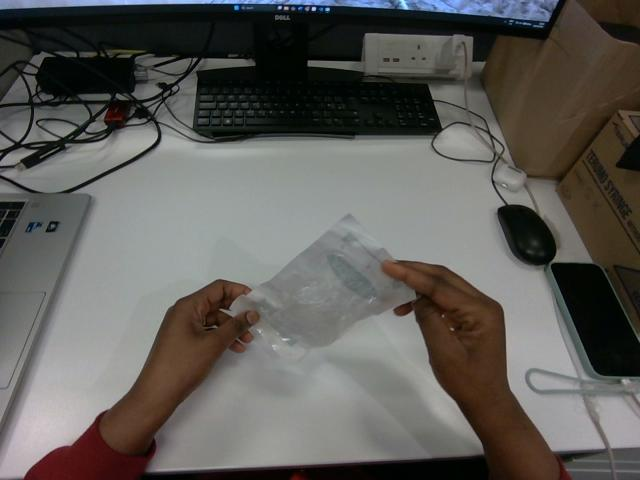gallipot: (230, 215, 414, 359)
